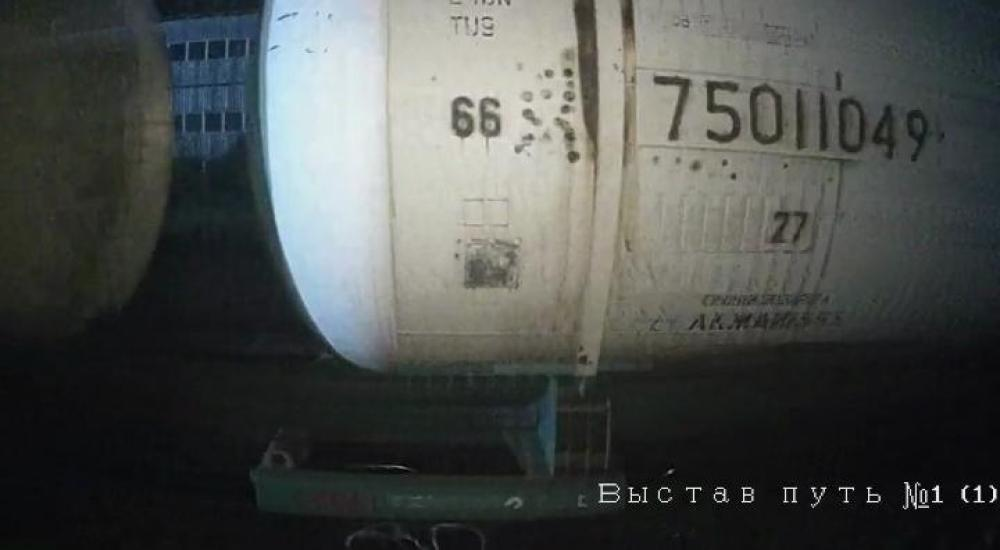Wagon-number: (647, 69, 936, 167)
